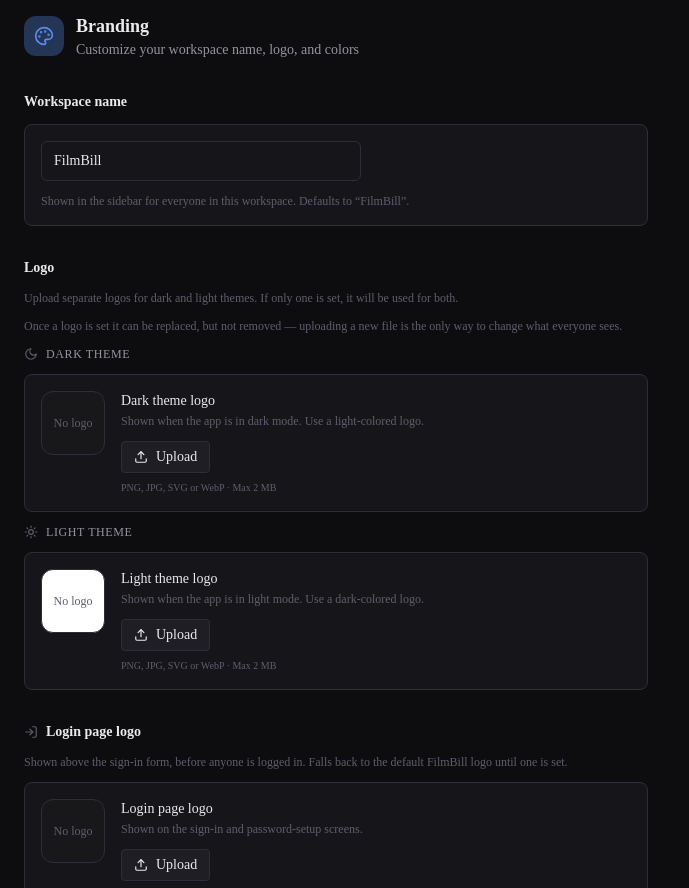
branding draft state › Discard reverts the form and sends nothing
Replace the text in the field with placeholder "e.g. Acme Studio" with "Acme Studio": (201, 161) [41, 141, 361, 181]
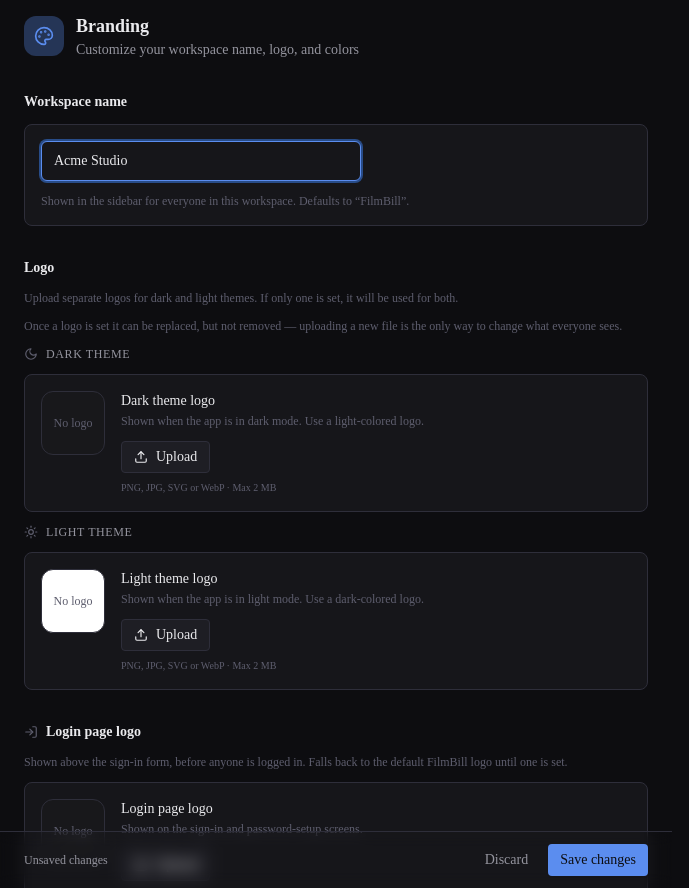
Click the button "Discard": (506, 860) [473, 844, 540, 876]
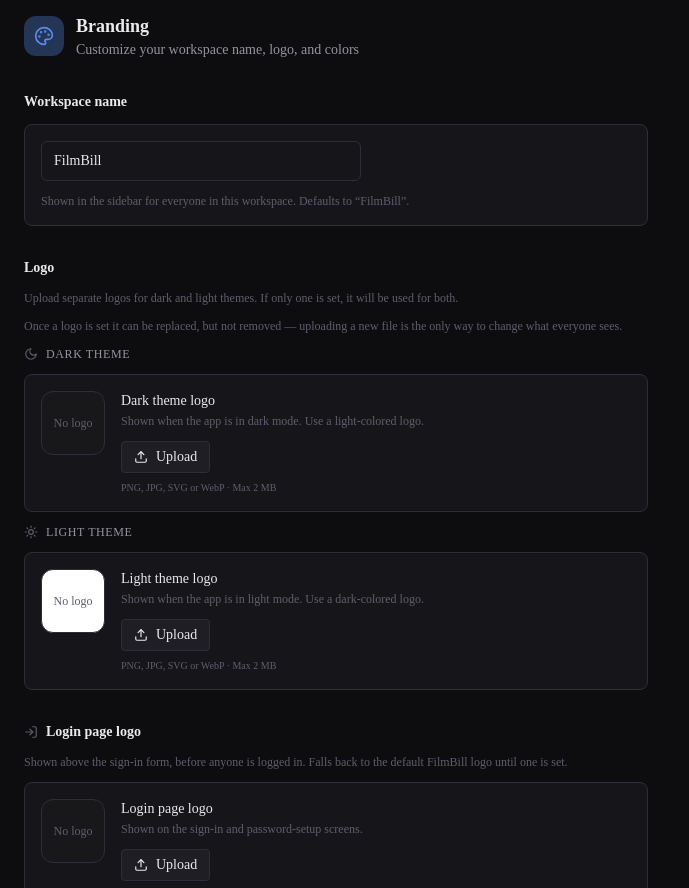
Check: the field with placeholder "e.g. Acme Studio" holds "FilmBill", box [41, 141, 361, 181]
